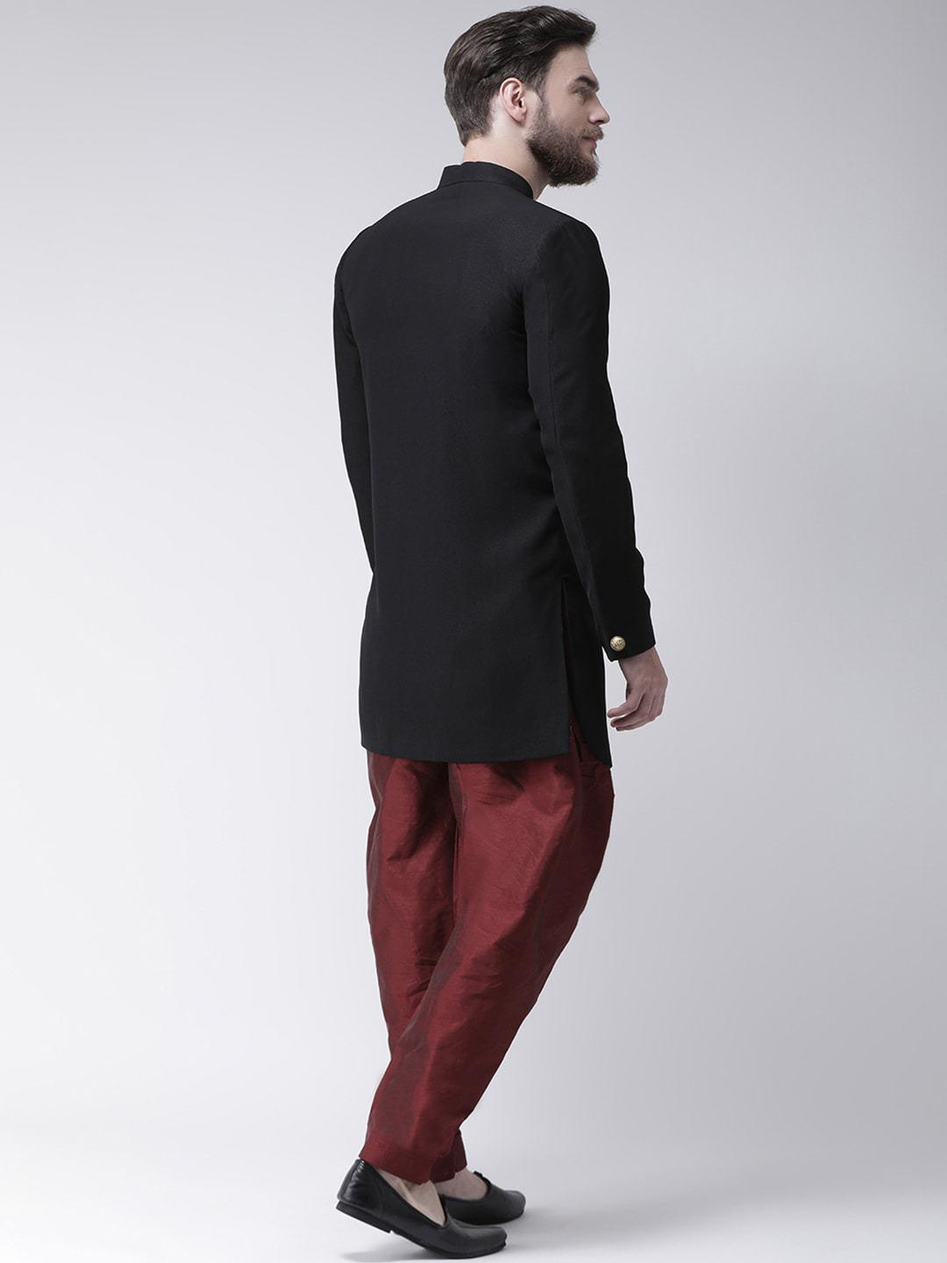Plain Sherwani: (317, 162, 676, 765)
